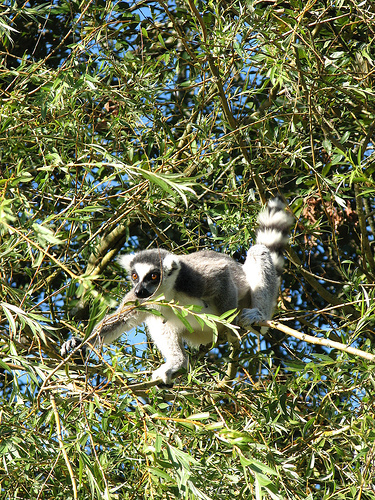cat: (93, 203, 291, 383)
